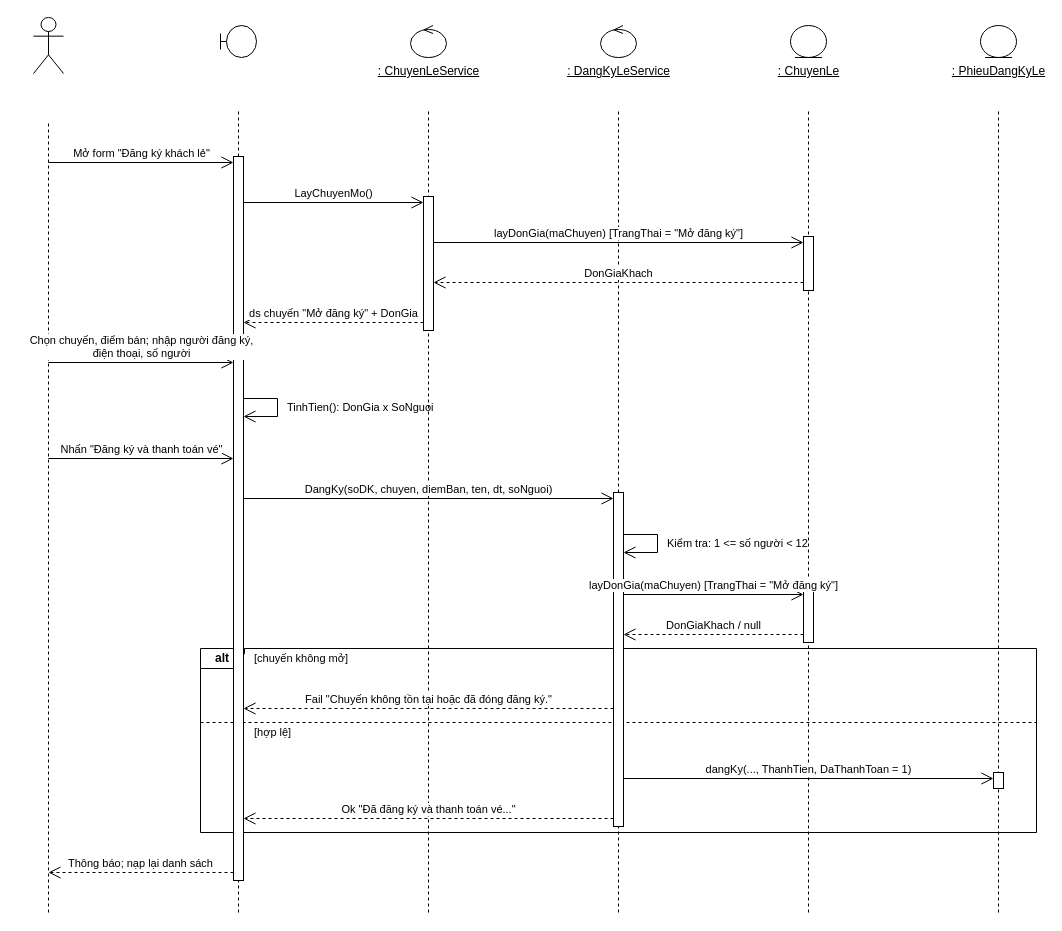
This 1062x931 diagram has some shape labels left out. The shapes that lost their labels are listed below. From the top down, each one's centre as x and y in pixels, then its label:
At (x=48, y=45): ": NV bán vé".
At (x=238, y=41): ": FrmDangKyLe".
